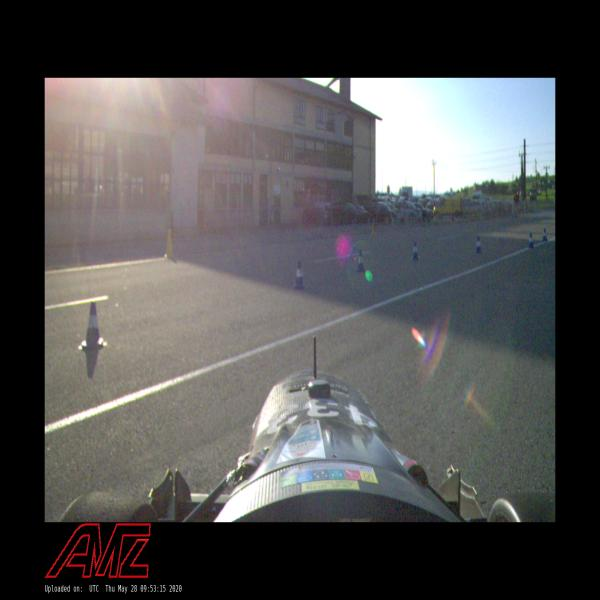blue_cone: (78, 300, 108, 352), (292, 261, 306, 290), (356, 250, 366, 273), (410, 242, 420, 262), (474, 236, 483, 256), (527, 233, 535, 250), (542, 228, 548, 244)
yellow_cone: (164, 229, 175, 259), (370, 217, 377, 236)
